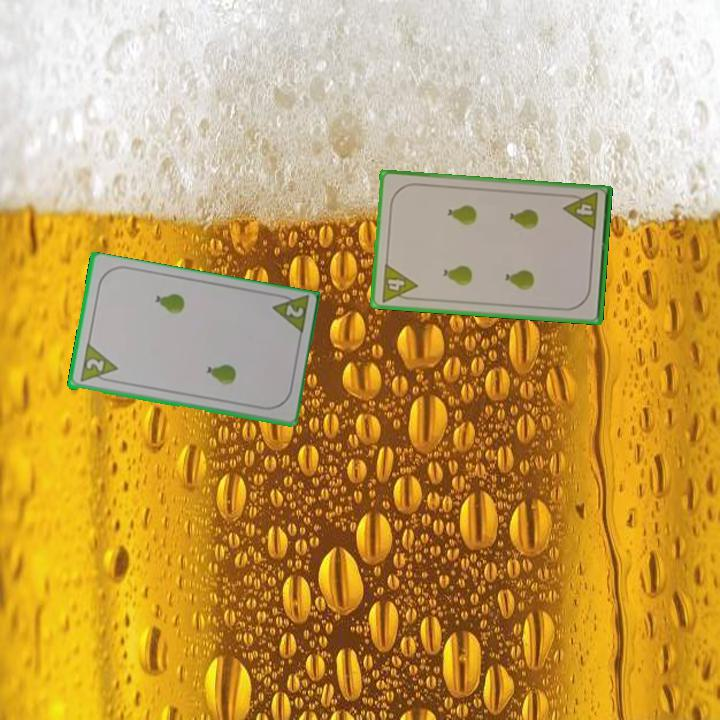2p: (268, 290, 312, 338), (76, 342, 120, 386)
4p: (378, 260, 420, 305), (561, 189, 601, 234)
